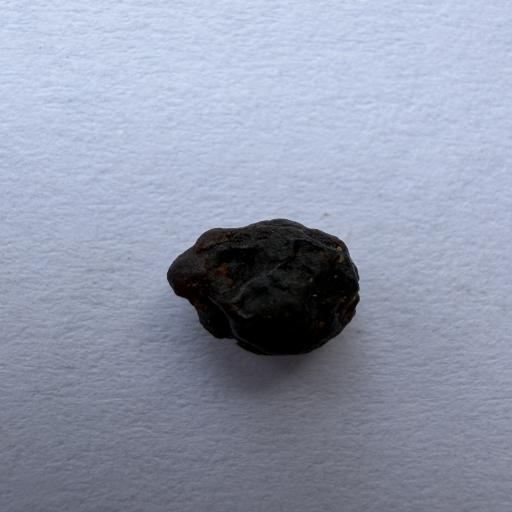Black_pepper: (161, 192, 375, 365)
